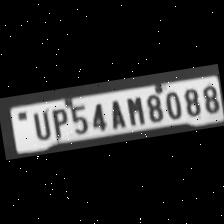0: (160, 88, 182, 120)
4: (86, 100, 109, 134)
5: (64, 102, 90, 137)
8: (179, 84, 204, 118), (197, 82, 221, 116), (143, 92, 165, 124)
A: (104, 96, 128, 130)
M: (123, 94, 147, 127)
P: (47, 104, 71, 138)
U: (27, 108, 53, 142)
